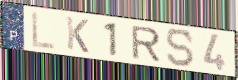1: (103, 21, 120, 57)
4: (202, 32, 227, 73)
K: (65, 15, 90, 55)
L: (30, 10, 56, 51)
R: (130, 25, 162, 63)
S: (165, 28, 196, 68)
